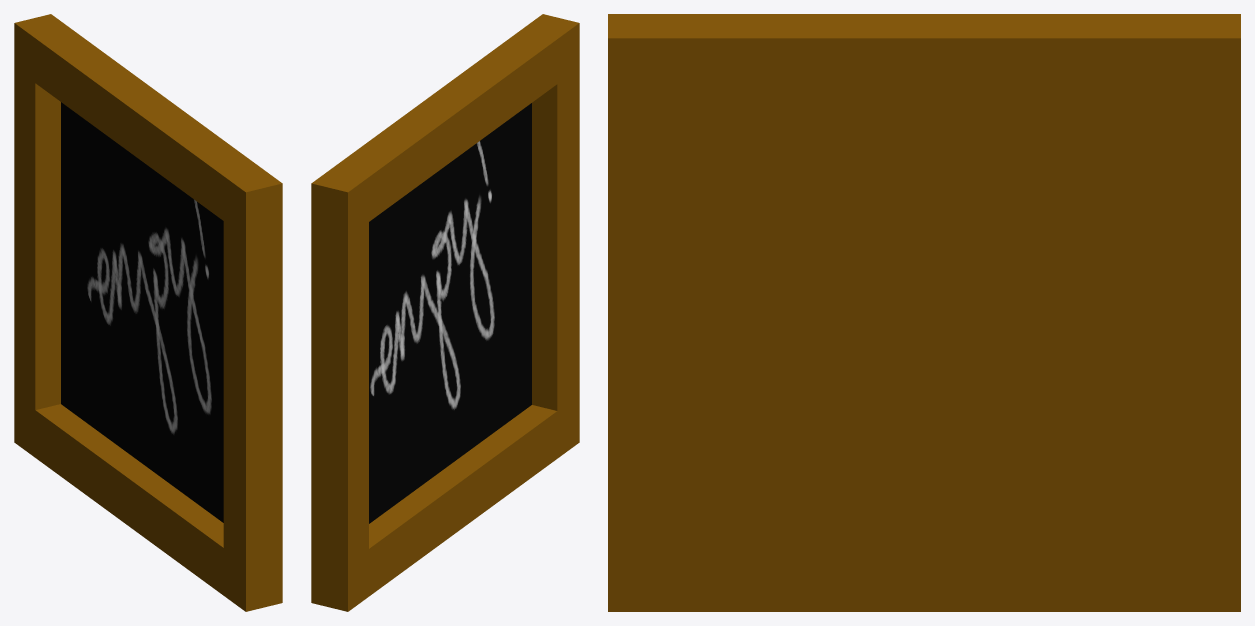
The model's file is hiasanfix.fbx.
3 views of the same model, side by side, from view 1: azimuth 30°, elevation 25°; view 2: azimuth 150°, elevation 25°; view 3: azimuth 270°, elevation 25° (orthographic). The views are drawn at different scales.
Parts seen in each view (by area): view 1: hiasan; view 2: hiasan; view 3: hiasan.
Boxes of the visible parts, left/top/right/bottom form: hiasan: left=14, top=14, right=282, bottom=611; hiasan: left=311, top=14, right=579, bottom=611; hiasan: left=608, top=14, right=1240, bottom=611.
Bounding box in the file's own units: 32.92 × 360 × 360.
